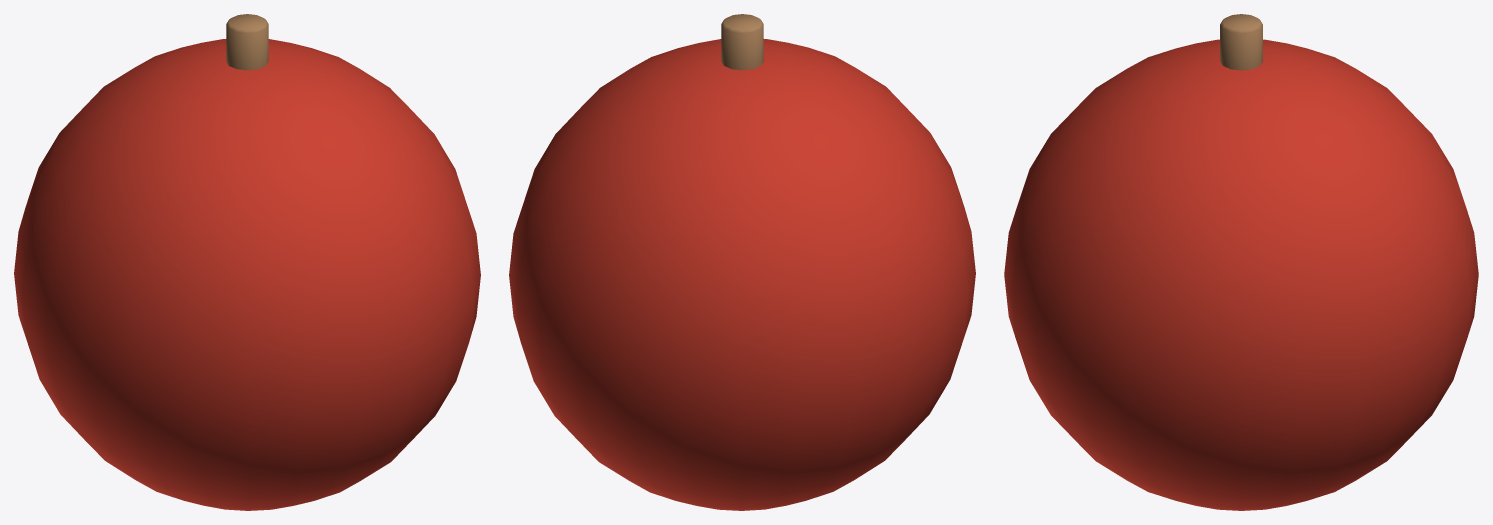
Rendered from SM_EG_Fruit_apple_Stemmed_a899910308.fbx.
3 renders of one model, left to right at view 1: azimuth 30°, elevation 25°; view 2: azimuth 150°, elevation 25°; view 3: azimuth 270°, elevation 25°, orthographic.
Parts seen in each view (by area): view 1: SM_EG_Fruit_apple_Stemmed_a899910308; view 2: SM_EG_Fruit_apple_Stemmed_a899910308; view 3: SM_EG_Fruit_apple_Stemmed_a899910308.
Boxes of the visible parts, <box> form: SM_EG_Fruit_apple_Stemmed_a899910308: <box>14,14,480,510</box>; SM_EG_Fruit_apple_Stemmed_a899910308: <box>509,14,975,510</box>; SM_EG_Fruit_apple_Stemmed_a899910308: <box>1004,14,1478,510</box>.
Size of what is drawn, in the model's own units: 19.6 by 20 by 21.75.
